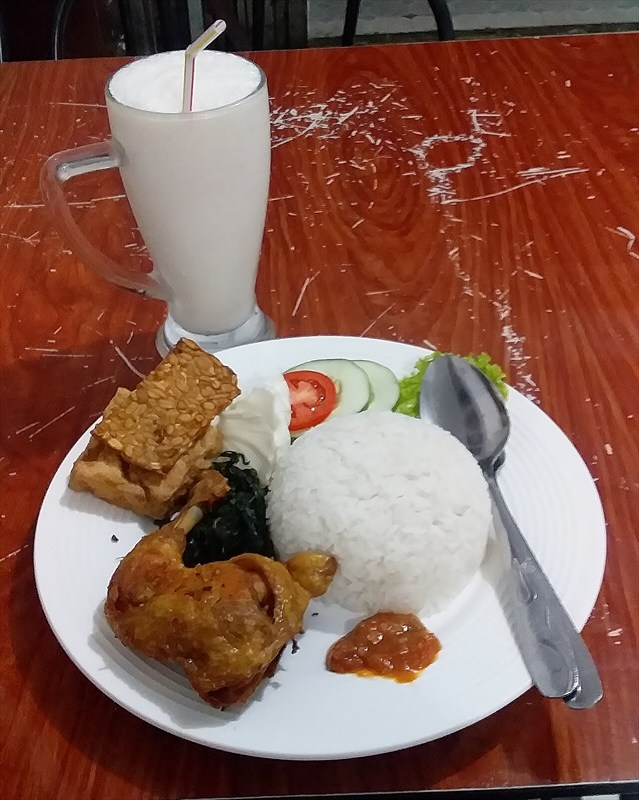Ayam Goreng: (46, 45, 593, 761)
